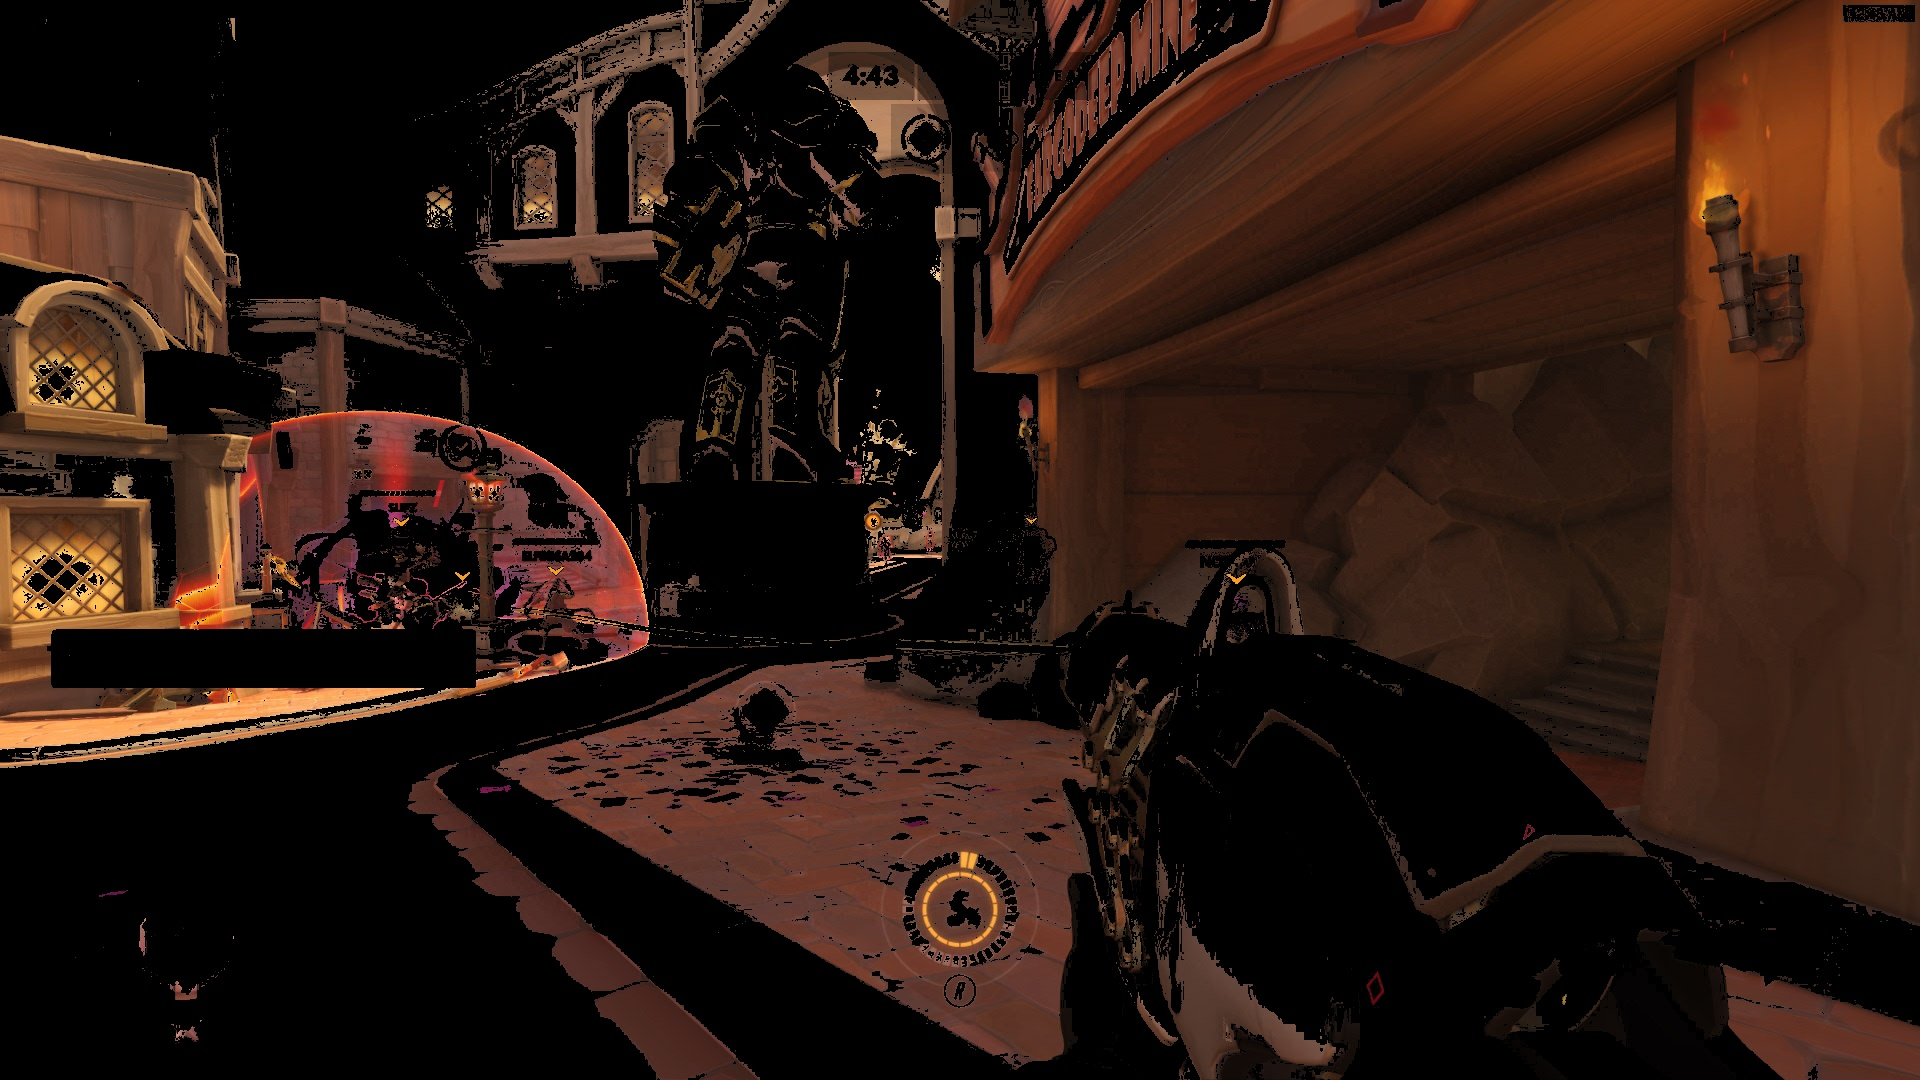widowmaker: (923, 529, 938, 555)
